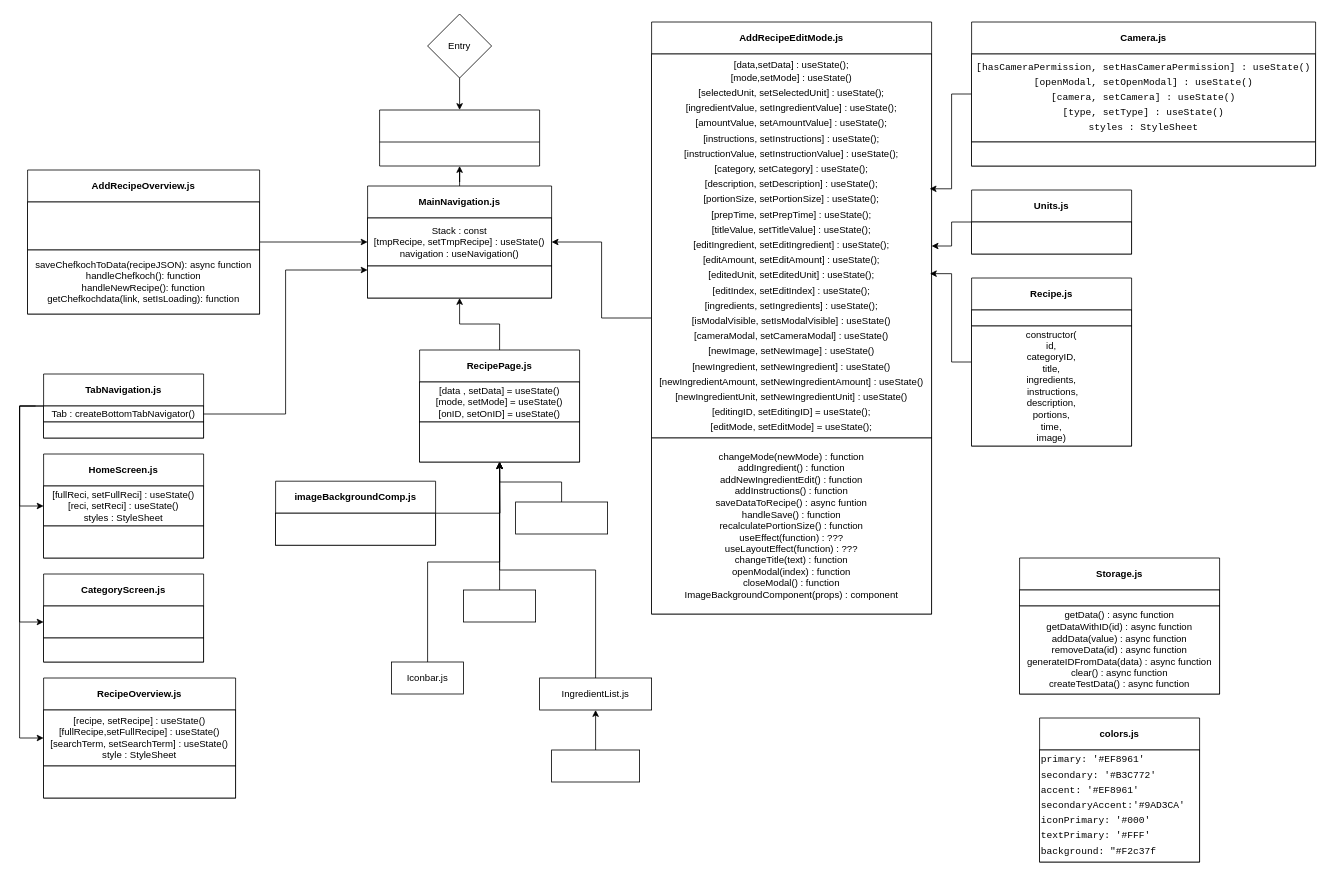
The diagram is 1330 pixels wide and 876 high, and some of its shapes have lost their labels. The centre of each missing label's shape, as x and y in pixels:
"[category, setCategory] : useState()" goes at (x=123, y=621).
"[link,setLink] : useState() [isLoading,setIsLoading]: useState()" goes at (x=143, y=225).
"App.js" goes at (x=459, y=137).
"BackButton : component" goes at (x=459, y=281).
"Category.js" goes at (x=499, y=605).
"changeMode(newMode) : function" goes at (x=499, y=441).
"Entry.js" goes at (x=595, y=765).
"handleOnPress() : function" goes at (x=123, y=429).
"navigation : useNavigation()" goes at (x=355, y=528).
"Steps.js" goes at (x=561, y=517).
"takePicture() : async function" goes at (x=1143, y=153).
"unitData : List[]" goes at (x=1051, y=237).
"Update() : async function" goes at (x=123, y=649).
"Update() : async function handleButtonPress() : function" goes at (x=123, y=541).
"Update() : async function handleSearch(value) : function" goes at (x=139, y=781).
